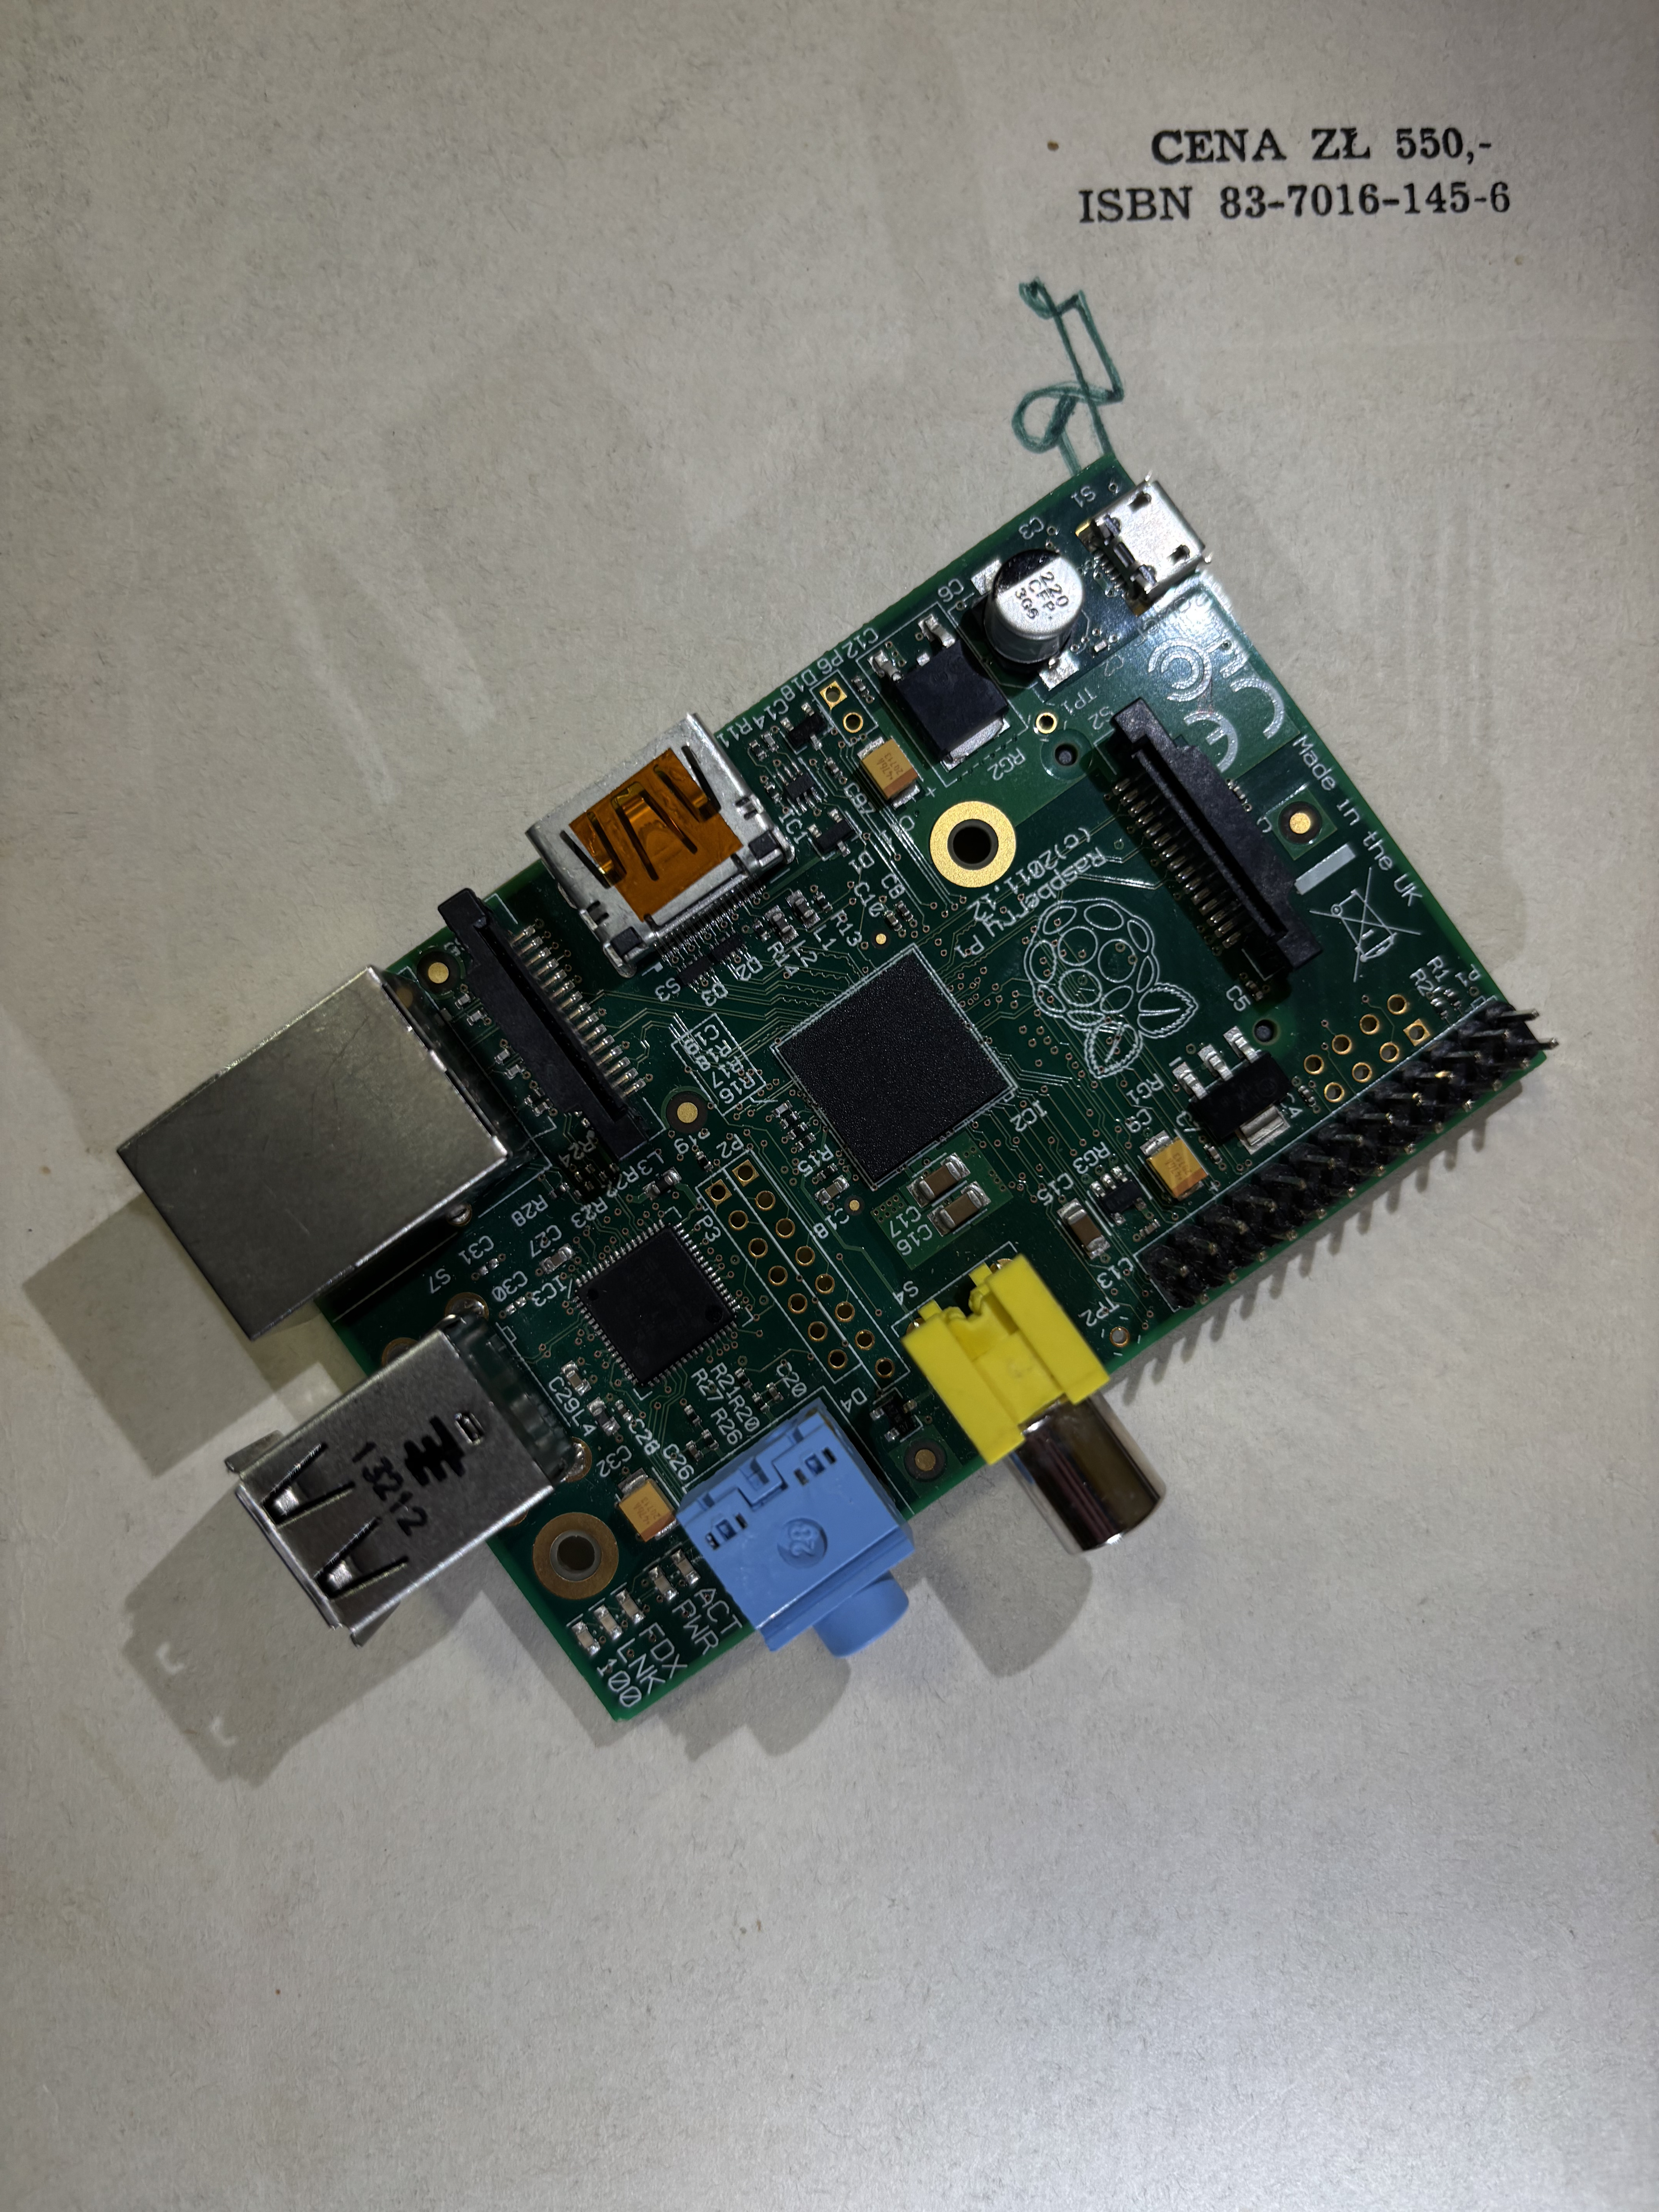kondensator: (1147, 1137, 1208, 1198), (859, 737, 918, 799), (617, 1480, 676, 1541), (1065, 1205, 1107, 1252), (918, 1162, 962, 1202), (939, 1190, 983, 1230), (1039, 563, 1072, 596), (821, 1179, 843, 1204), (547, 1249, 568, 1270), (566, 1369, 586, 1392), (507, 1062, 523, 1078), (495, 1047, 511, 1062), (1300, 1089, 1316, 1104), (763, 732, 777, 749), (533, 1101, 551, 1115), (826, 759, 840, 775), (852, 676, 866, 691), (885, 911, 899, 927), (617, 1404, 631, 1420), (687, 1444, 701, 1460), (1143, 1221, 1157, 1235), (774, 1103, 789, 1115), (469, 1010, 483, 1022), (769, 1386, 781, 1400), (458, 993, 471, 1005)
